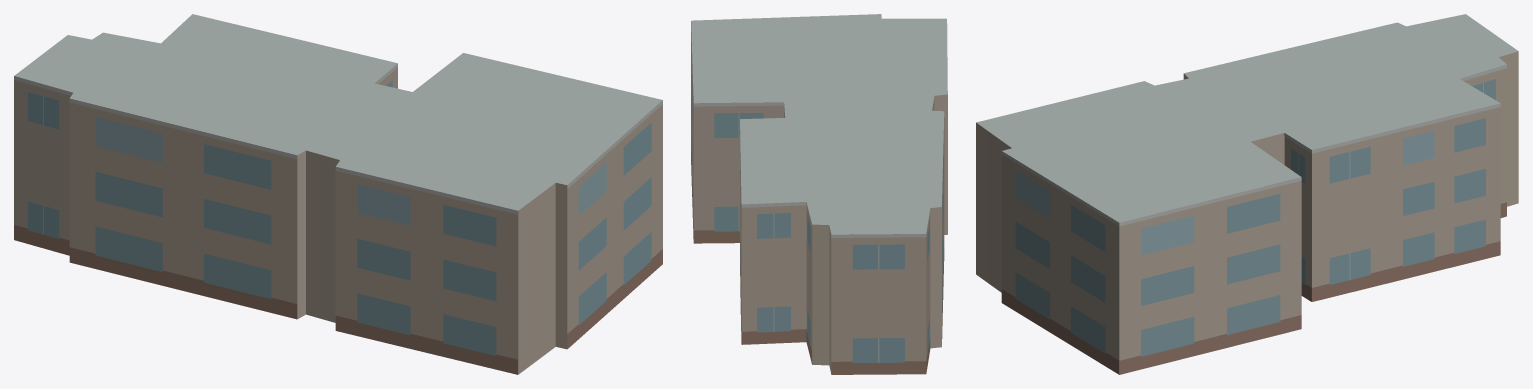
File: survey-upis-32502195.glb
3 renders of one model, left to right at view 1: azimuth 30°, elevation 25°; view 2: azimuth 150°, elevation 25°; view 3: azimuth 270°, elevation 25°, orthographic. The views are drawn at different scales.
Visible parts, largest first — view 1: survey-upis-32502195.tmp; view 2: survey-upis-32502195.tmp; view 3: survey-upis-32502195.tmp.
Boxes of the visible parts, x1,y1,x2,y2 form: survey-upis-32502195.tmp: [14, 14, 662, 374]; survey-upis-32502195.tmp: [691, 14, 947, 374]; survey-upis-32502195.tmp: [976, 14, 1518, 374].
Size of the model in its own units: 29.76 by 10.1 by 32.67.
